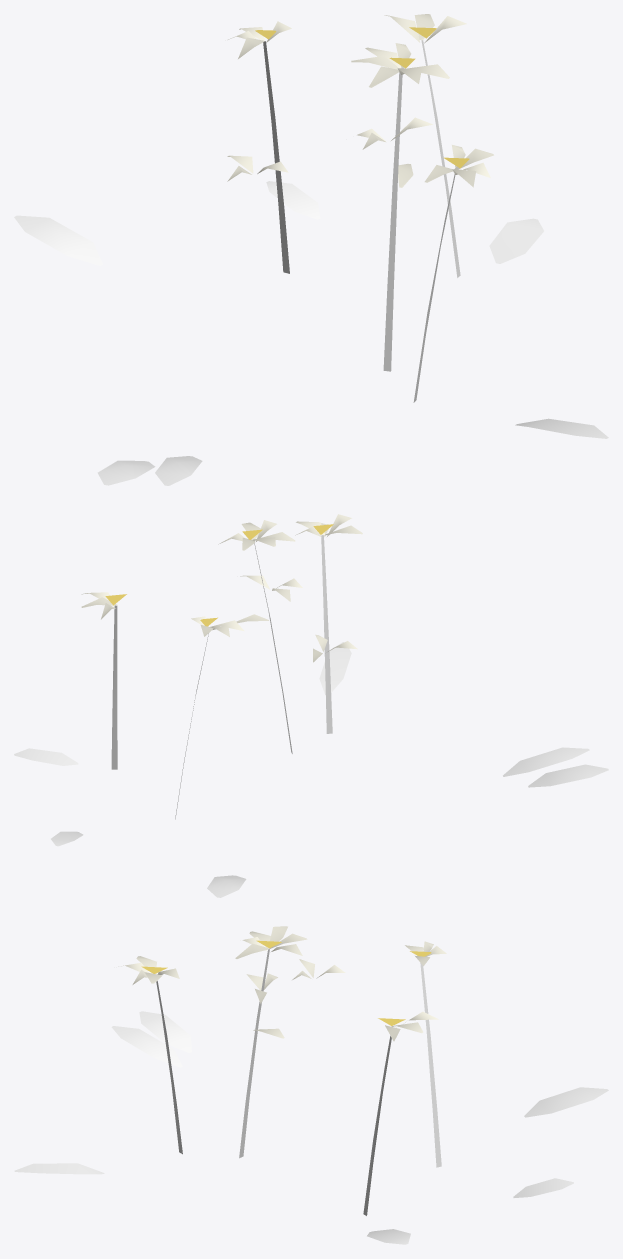
The model's file is TinyDaisyClump_LOD0.glb.
The picture shows the model from 3 angles, top to bottom: view 1: azimuth 30°, elevation 25°; view 2: azimuth 150°, elevation 25°; view 3: azimuth 270°, elevation 25°; orthographic projection. The views are drawn at different scales.
Visible parts, largest first — view 1: TinyDaisyClump_LOD0; view 2: TinyDaisyClump_LOD0; view 3: TinyDaisyClump_LOD0.
Part boxes in pixels (box(x1,y1,x2,y2)): TinyDaisyClump_LOD0: box(14, 14, 608, 485); TinyDaisyClump_LOD0: box(14, 514, 608, 897); TinyDaisyClump_LOD0: box(14, 926, 608, 1244).
Size of the model in its own units: 0.8838 by 0.4126 by 0.9627.
